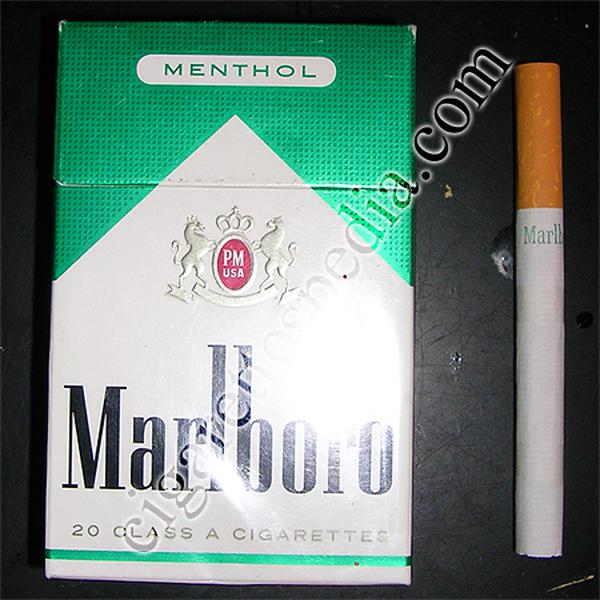marlboro_mentol: (43, 29, 415, 581)
